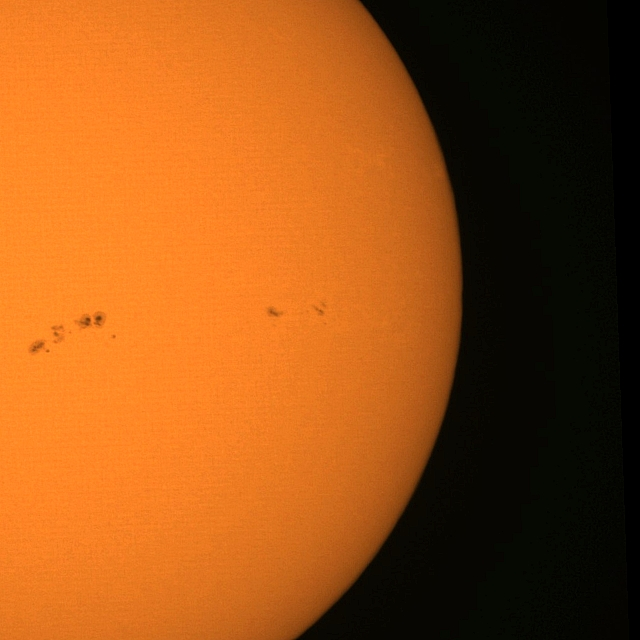sunspot: (46, 310, 110, 346), (27, 323, 72, 355), (72, 310, 108, 334), (27, 337, 51, 355), (266, 305, 284, 320), (315, 300, 327, 318), (110, 334, 117, 340)
